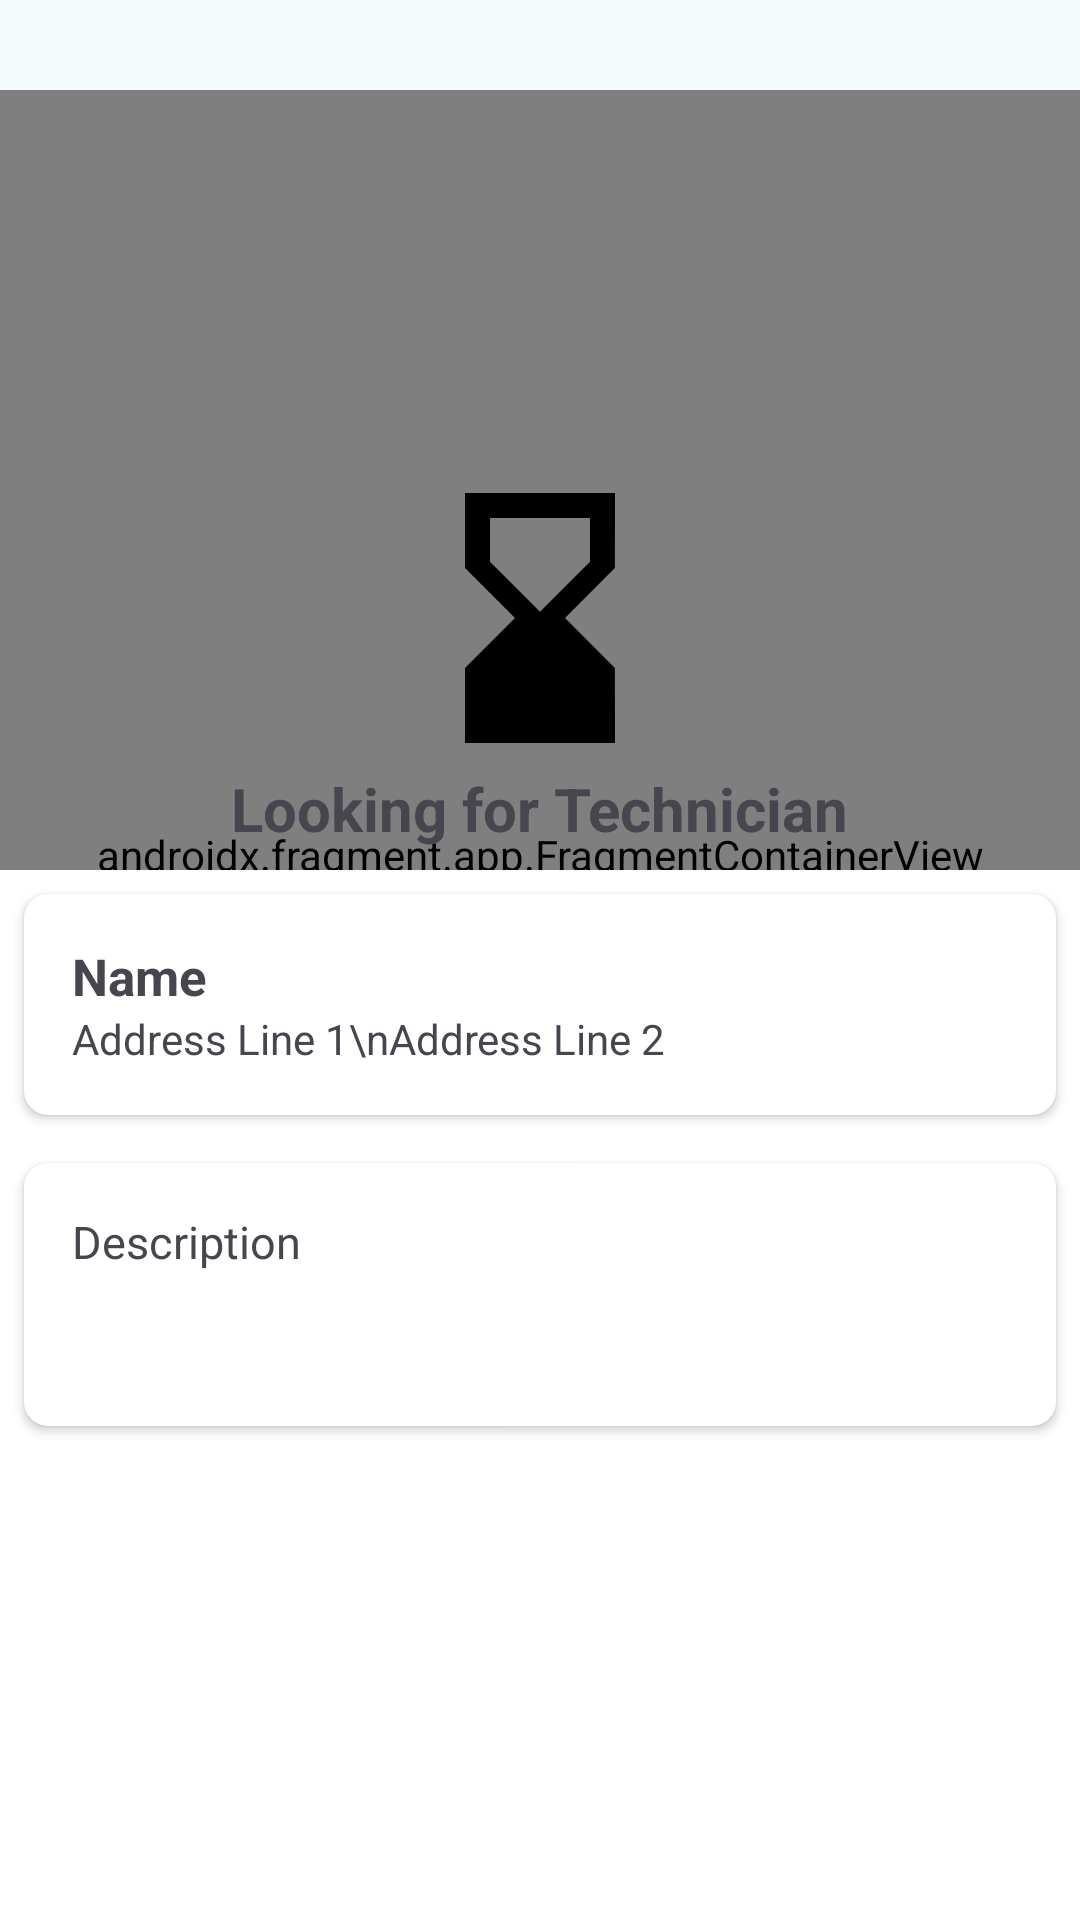

Icons on this 1080w x 1920h Android screen, each with its box as box(x1, y1, x2, y2):
hourglass bottom: box(465, 493, 615, 743)
